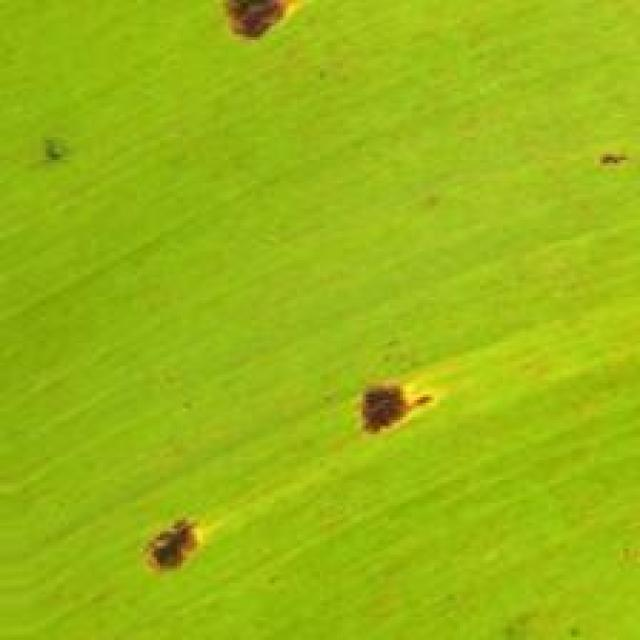Bacterial_spot: (337, 364, 454, 466), (200, 0, 317, 69), (126, 510, 217, 584), (16, 126, 88, 172), (584, 125, 634, 180)
